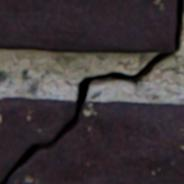brick: (0, 0, 176, 52)
broken_brick: (7, 100, 183, 183), (0, 96, 76, 181)
crack: (0, 0, 183, 183)
